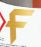Fisher: (4, 8, 35, 45)
